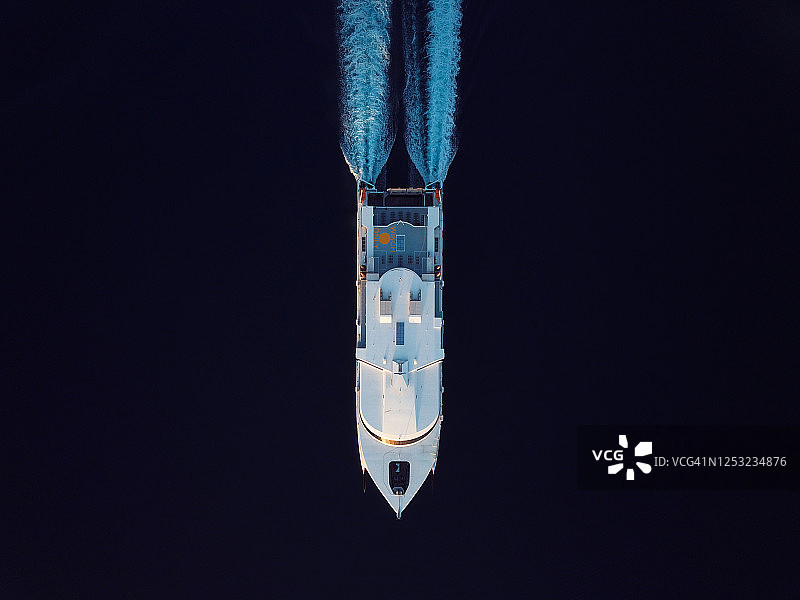ship: (331, 174, 474, 533)
